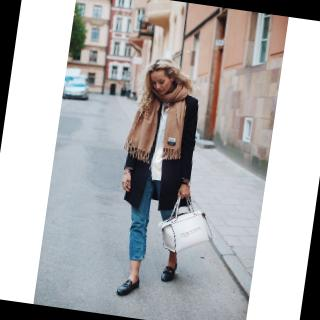loafers: (157, 257, 186, 292), (111, 271, 142, 300)
